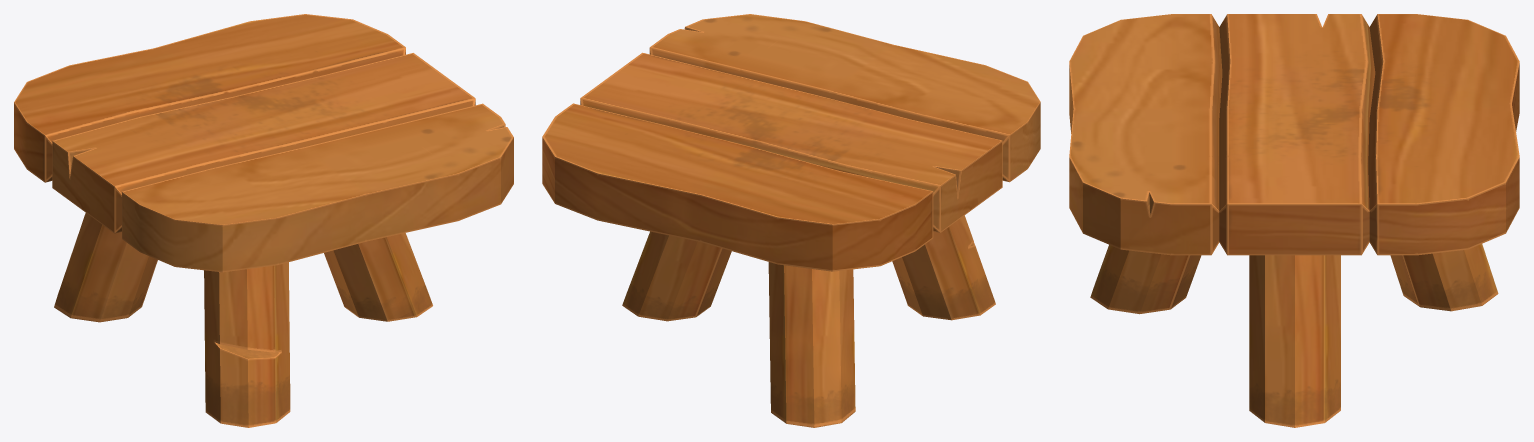
Rendered from Wooden Stool.fbx.
3 views of the same model, side by side, from view 1: azimuth 30°, elevation 25°; view 2: azimuth 150°, elevation 25°; view 3: azimuth 270°, elevation 25° (orthographic). The views are drawn at different scales.
Parts seen in each view (by area): view 1: Wooden Stool; view 2: Wooden Stool; view 3: Wooden Stool.
Part boxes in pixels (bbox=[...]): Wooden Stool: bbox=[14, 14, 513, 427]; Wooden Stool: bbox=[542, 14, 1040, 427]; Wooden Stool: bbox=[1069, 14, 1519, 427].
Size of the model in its own units: 40 by 22.71 by 40.
